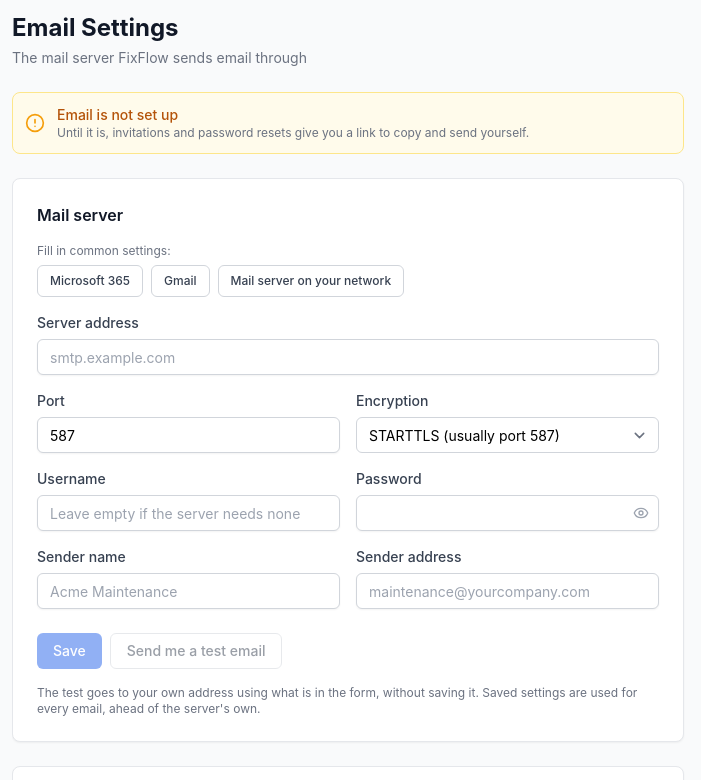
Test: EmailSettingsPage › will not save or test until there is a server and a sender
The image size is (701, 780).
Expected: the button "Save" is disabled, [37,633,102,669]
Expected: the button "Send me a test email" is disabled, [110,633,282,669]
Type "smtp.acme.com" into the field labelled "Server address" at point(348, 357), box [37,339,659,375]
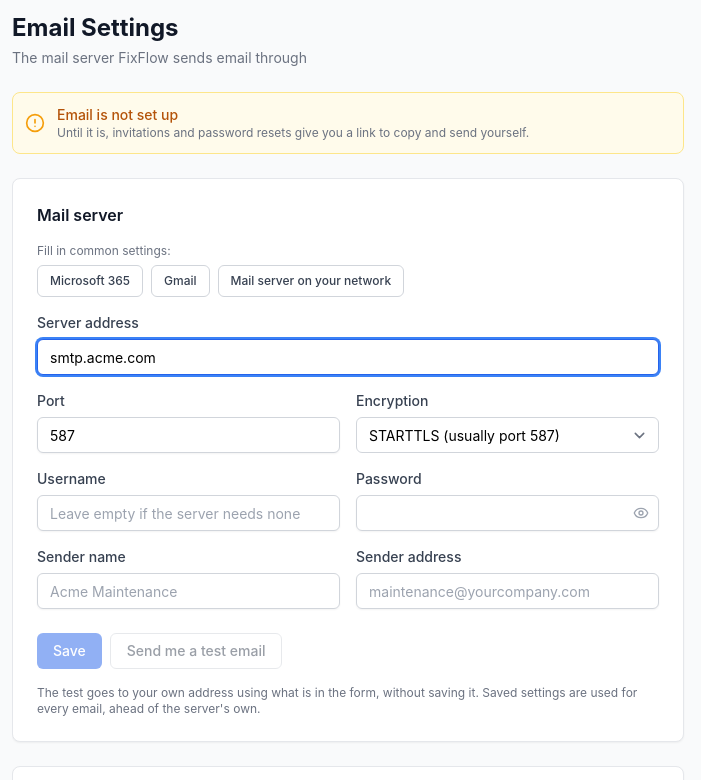
Expected: the button "Save" is disabled, [37,633,102,669]
Type "mail@acme.com" into the field labelled "Sender address" at point(508, 591), box [356,573,659,609]
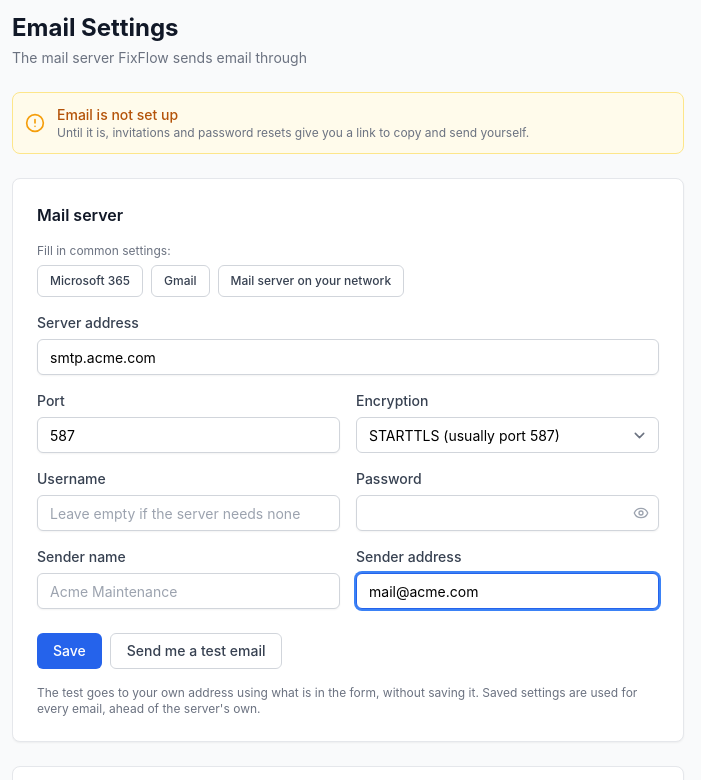
Expected: the button "Save" is enabled, [37,633,102,669]
